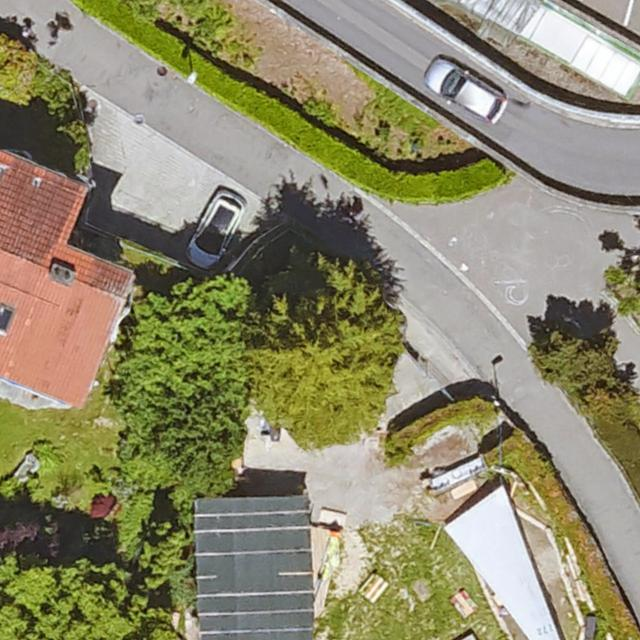tree: (247, 269, 400, 445), (122, 275, 249, 395), (0, 559, 153, 640), (122, 397, 243, 491), (534, 330, 616, 393), (136, 523, 181, 585), (0, 33, 36, 105), (601, 264, 640, 315)
